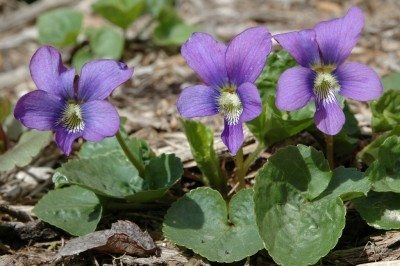violet: (278, 17, 385, 138), (167, 23, 271, 147), (21, 43, 127, 149)
